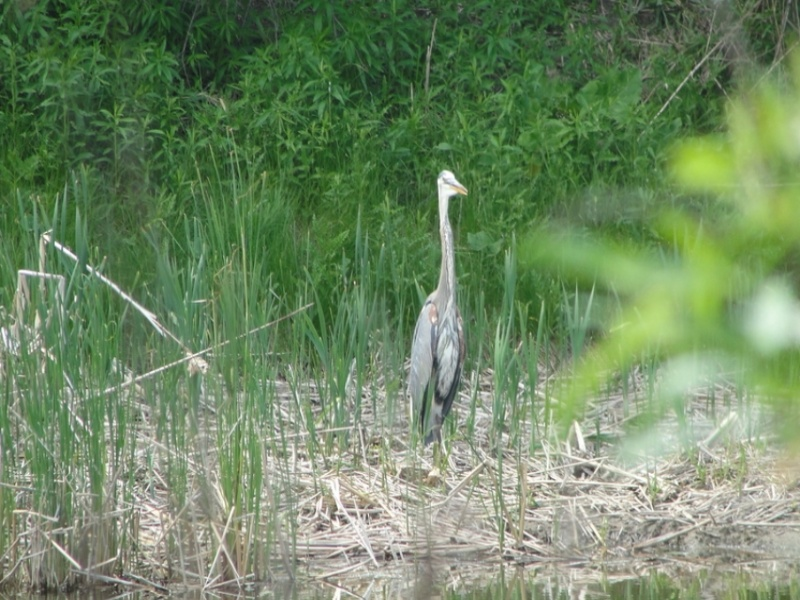heron: (405, 166, 474, 459)
